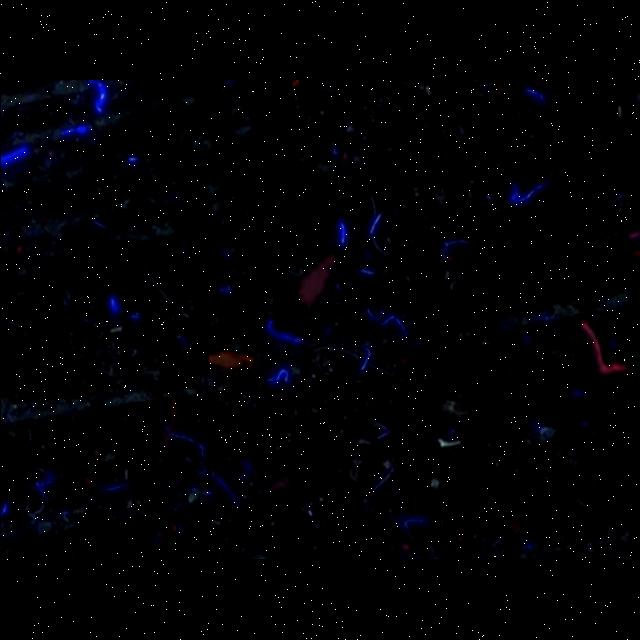Fibre: (438, 238, 472, 260)
